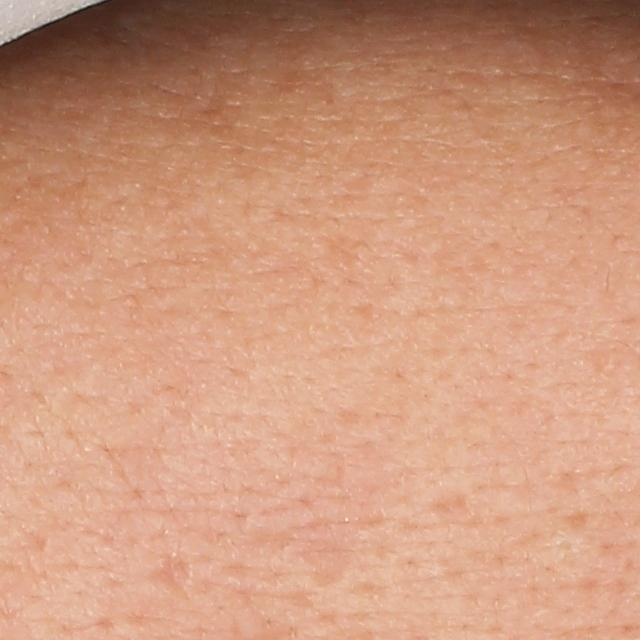atrophic_scar: (250, 514, 395, 593), (145, 528, 194, 600)
